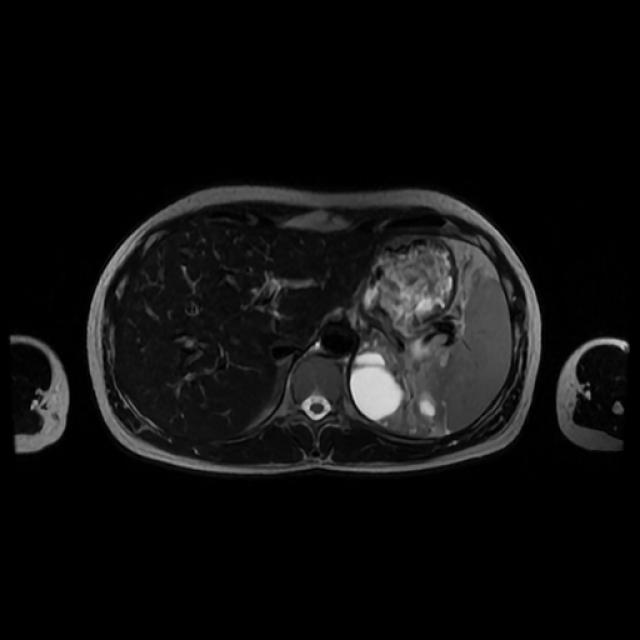sol: (353, 340, 436, 438)
